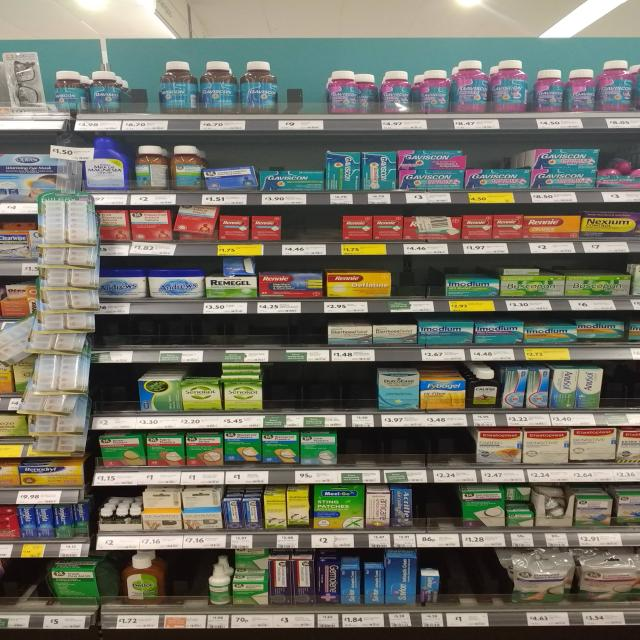void: (97, 316, 319, 345), (270, 365, 373, 408), (342, 430, 468, 461), (446, 550, 493, 604), (398, 253, 442, 298), (96, 366, 136, 412), (4, 561, 40, 607), (418, 485, 454, 524), (284, 210, 328, 237), (614, 363, 640, 402)
